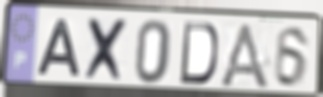0: (134, 18, 174, 86)
6: (272, 25, 312, 89)
A: (216, 20, 273, 92), (35, 17, 84, 79)
D: (177, 20, 220, 87)
X: (83, 16, 132, 85)
